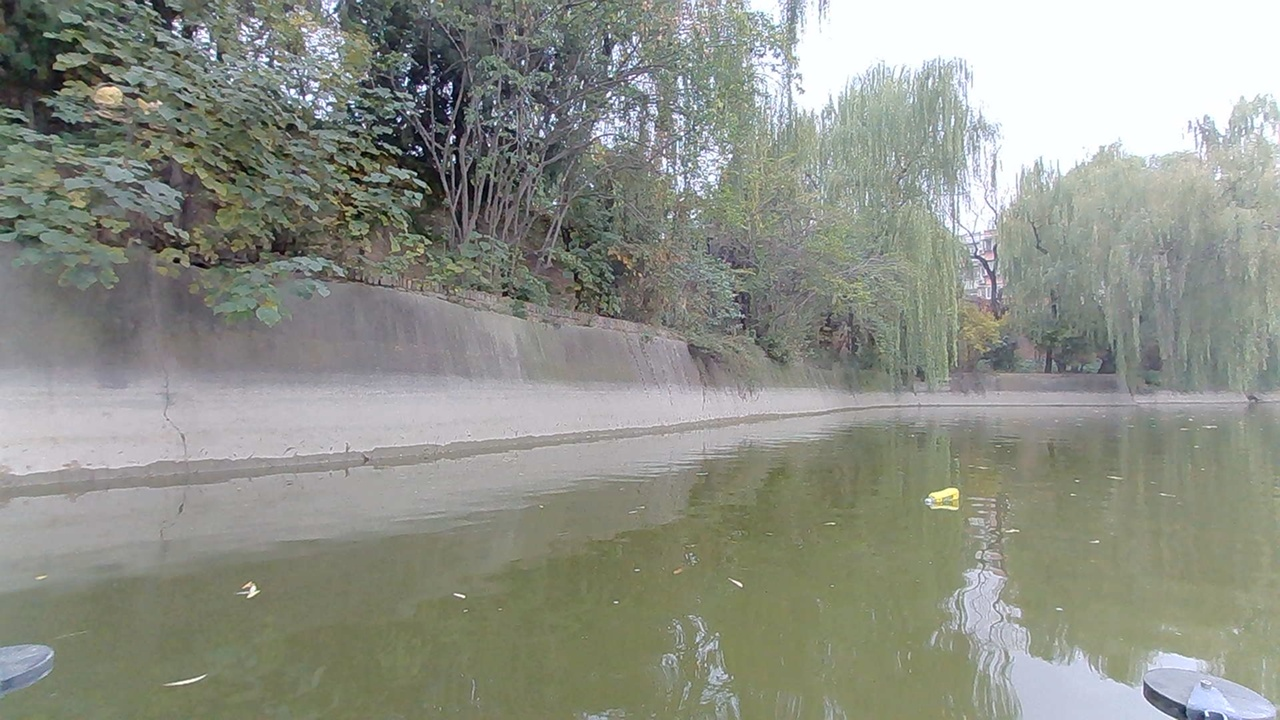bottle: (930, 487, 964, 510)
